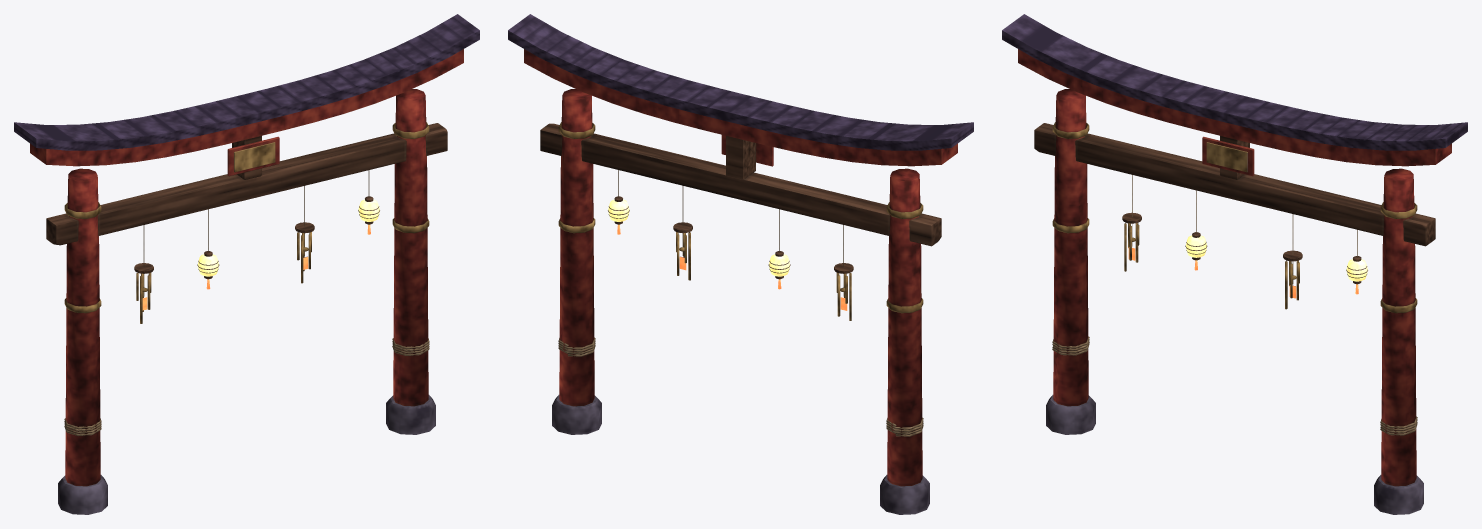
File: StiltVillage_Arch.fbx
3 renders of one model, left to right at view 1: azimuth 30°, elevation 25°; view 2: azimuth 150°, elevation 25°; view 3: azimuth 330°, elevation 25°, orthographic.
Parts seen in each view (by area): view 1: StiltVillage_Arch; view 2: StiltVillage_Arch; view 3: StiltVillage_Arch.
Boxes of the visible parts, x1,y1,x2,y2 form: StiltVillage_Arch: (14,14,479,514); StiltVillage_Arch: (508,14,973,514); StiltVillage_Arch: (1002,14,1467,514).
Size of the model in its own units: 6.9 by 5.77 by 0.6467.
